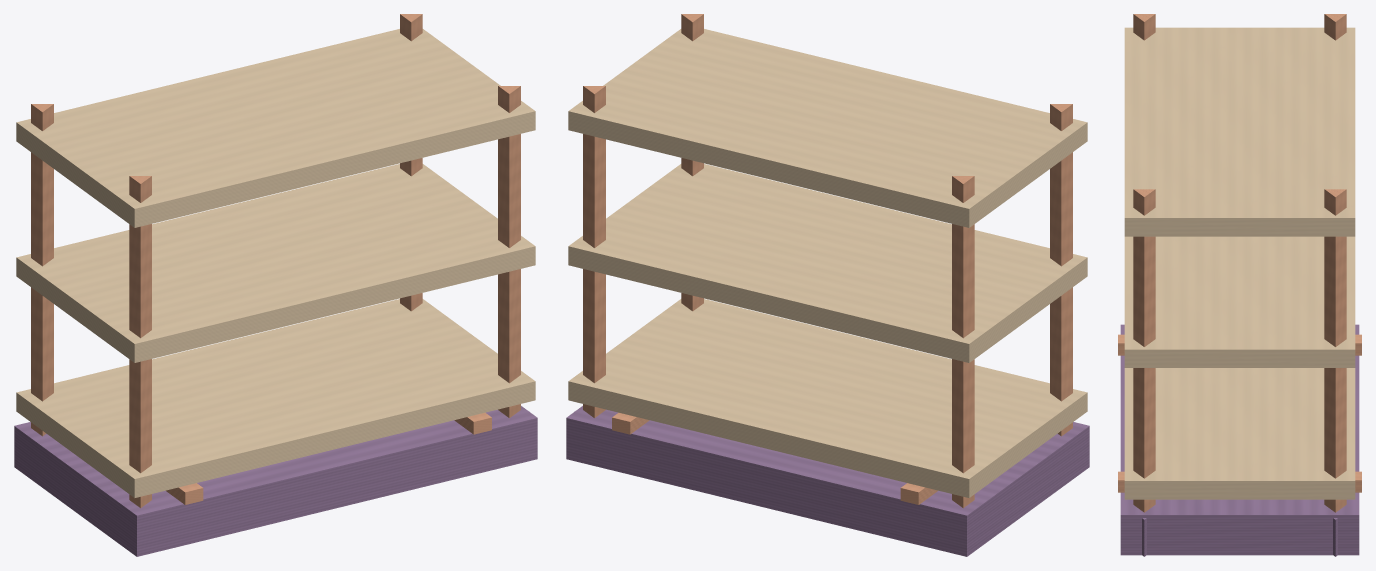
Rendered from atlas100-s089-a06.lod2.glb.
3 views of the same model, side by side, from view 1: azimuth 30°, elevation 25°; view 2: azimuth 150°, elevation 25°; view 3: azimuth 270°, elevation 25° (orthographic). The views are drawn at different scales.
Visible parts, largest first — view 1: atlas100-s089-a06:part-013, atlas100-s089-a06:part-011, atlas100-s089-a06:part-012, atlas100-s089-a06:part-000, atlas100-s089-a06:part-005, atlas100-s089-a06:part-009, atlas100-s089-a06:part-003, atlas100-s089-a06:part-007; view 2: atlas100-s089-a06:part-013, atlas100-s089-a06:part-011, atlas100-s089-a06:part-012, atlas100-s089-a06:part-000, atlas100-s089-a06:part-003, atlas100-s089-a06:part-007, atlas100-s089-a06:part-005, atlas100-s089-a06:part-009; view 3: atlas100-s089-a06:part-013, atlas100-s089-a06:part-011, atlas100-s089-a06:part-012, atlas100-s089-a06:part-000, atlas100-s089-a06:part-007, atlas100-s089-a06:part-009, atlas100-s089-a06:part-003, atlas100-s089-a06:part-005.
Boxes of the visible parts, x1,y1,x2,y2 form: atlas100-s089-a06:part-013: (16, 29, 535, 227); atlas100-s089-a06:part-011: (16, 299, 535, 497); atlas100-s089-a06:part-012: (16, 164, 535, 362); atlas100-s089-a06:part-000: (14, 406, 537, 556); atlas100-s089-a06:part-005: (129, 176, 151, 508); atlas100-s089-a06:part-009: (498, 86, 520, 417); atlas100-s089-a06:part-003: (31, 104, 53, 436); atlas100-s089-a06:part-007: (400, 14, 422, 311); atlas100-s089-a06:part-013: (568, 29, 1087, 227); atlas100-s089-a06:part-011: (568, 299, 1087, 497); atlas100-s089-a06:part-012: (568, 164, 1087, 362); atlas100-s089-a06:part-000: (566, 406, 1089, 556); atlas100-s089-a06:part-003: (952, 176, 974, 508); atlas100-s089-a06:part-007: (583, 86, 605, 417); atlas100-s089-a06:part-005: (1050, 104, 1072, 436); atlas100-s089-a06:part-009: (681, 14, 703, 311); atlas100-s089-a06:part-013: (1124, 27, 1355, 236); atlas100-s089-a06:part-011: (1124, 368, 1355, 499); atlas100-s089-a06:part-012: (1124, 236, 1355, 367); atlas100-s089-a06:part-000: (1120, 324, 1359, 555); atlas100-s089-a06:part-007: (1324, 189, 1346, 512); atlas100-s089-a06:part-009: (1133, 189, 1155, 512); atlas100-s089-a06:part-003: (1324, 14, 1346, 40); atlas100-s089-a06:part-005: (1133, 14, 1155, 40).
Bounding box in the file's own units: 2.66 × 2.3 × 1.43.
Materials: 3 (3 with a texture image).
